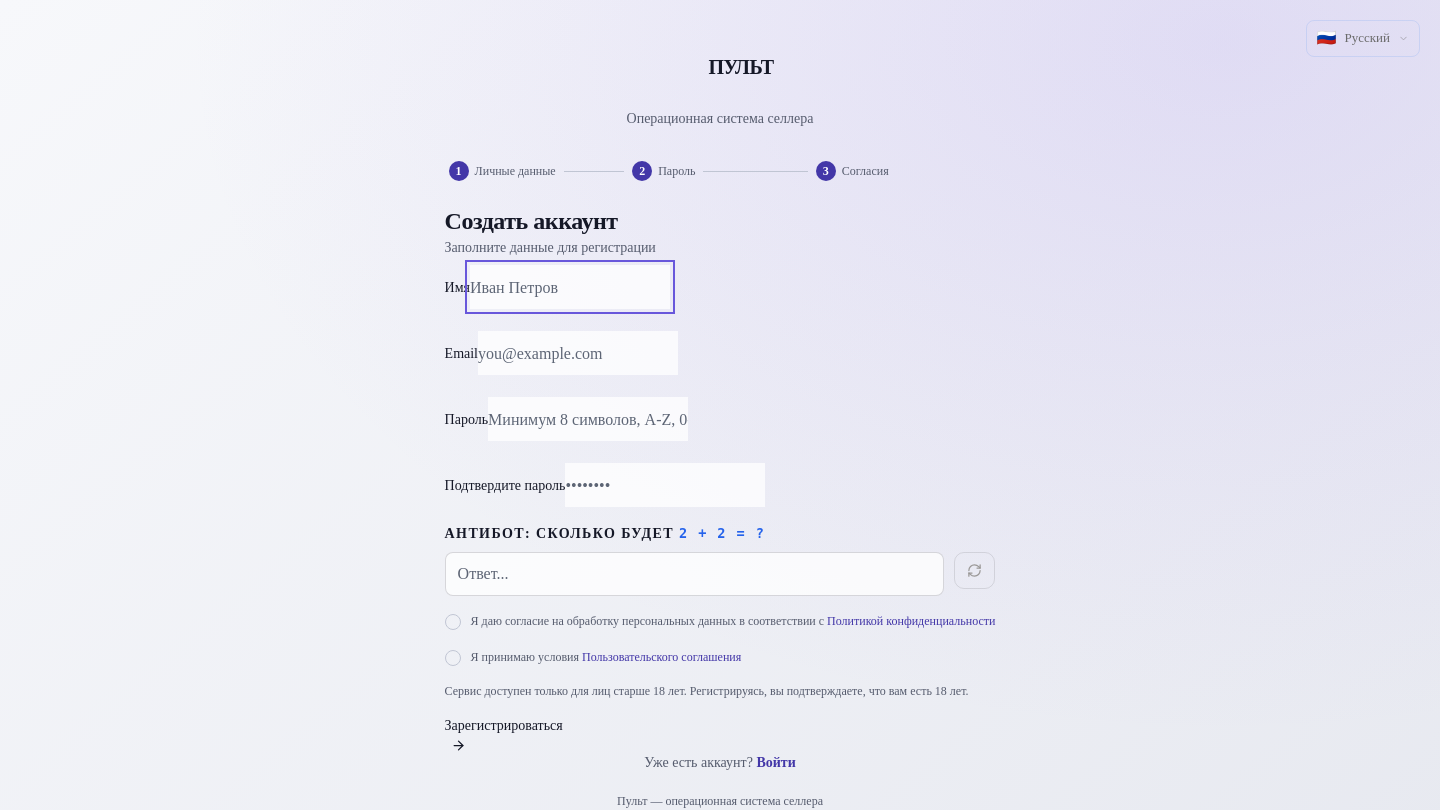
Test: registration consents › checks when the label text is clicked
This screenshot has width=1440, height=810.
Click the text "Я даю согласие" at (733, 622), box [471,612,995,632]
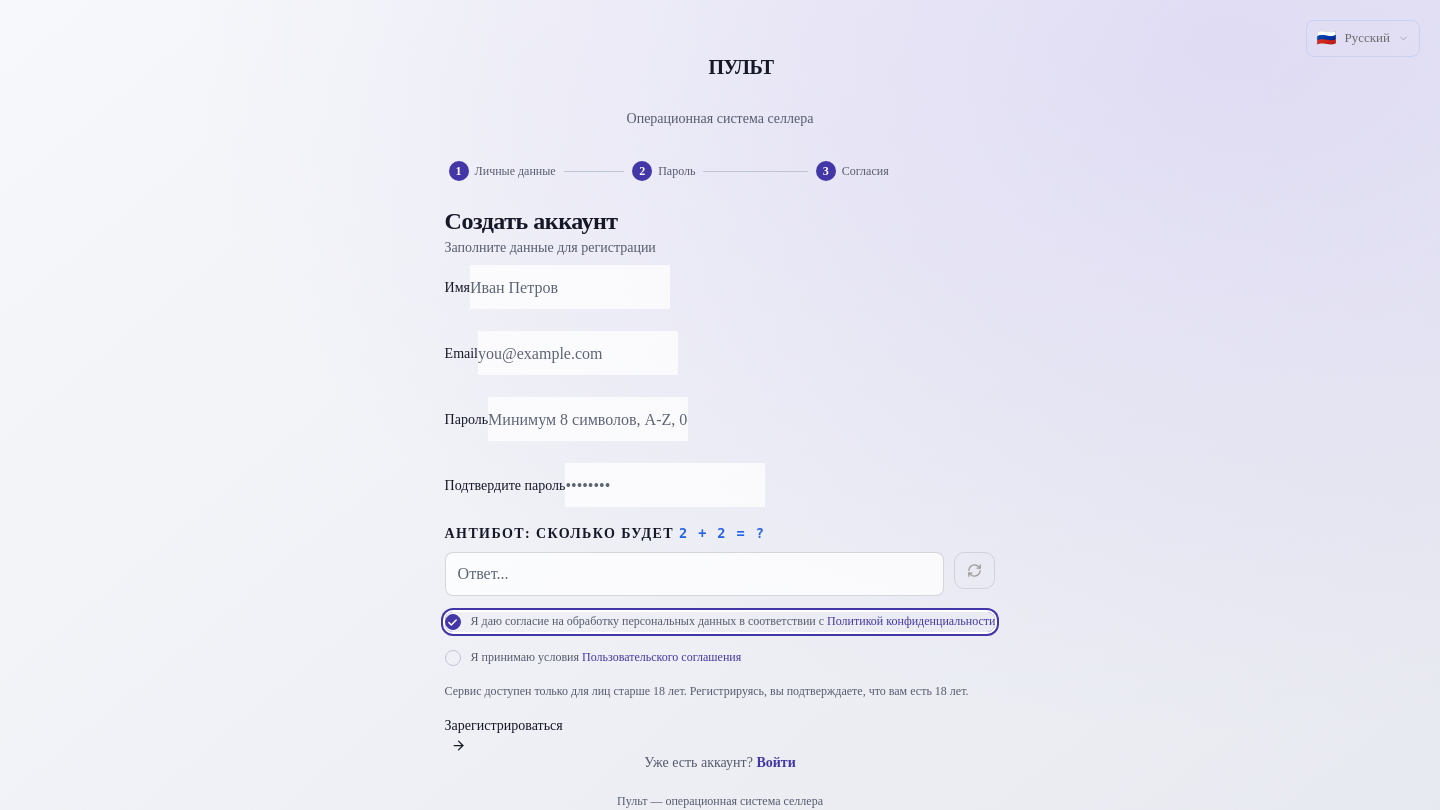
Now the 1st checkbox is checked, box [445,612,995,632]
